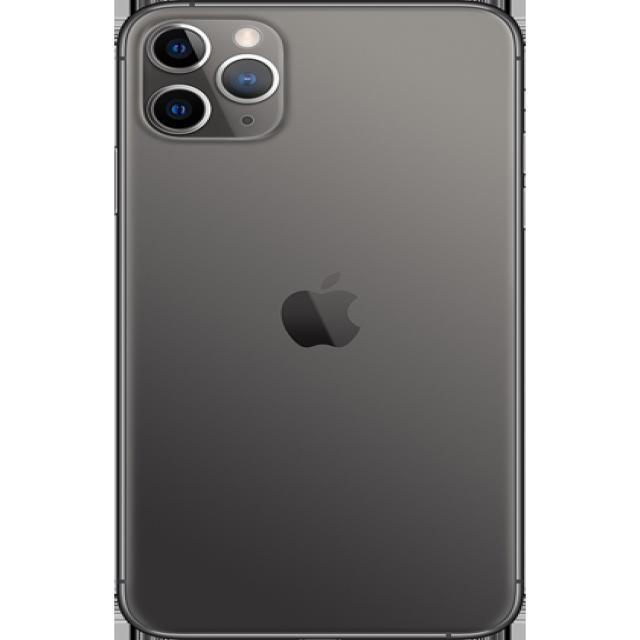phone: (109, 0, 529, 640)
